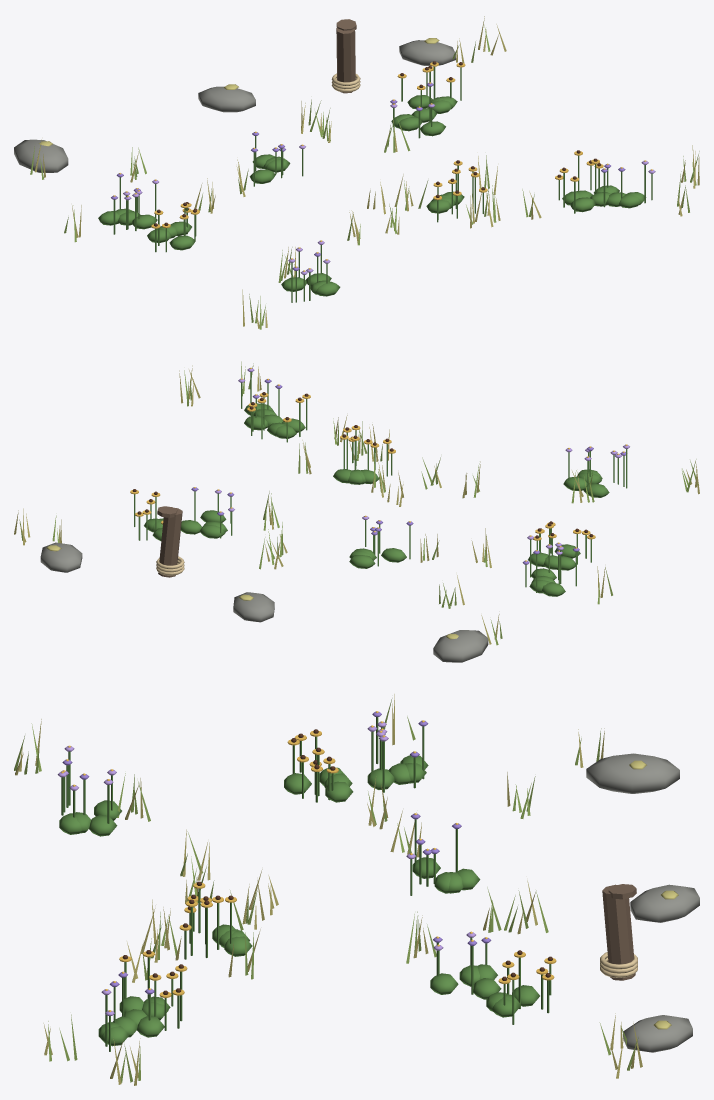
File: shore-meadow.glb
3 views of the same model, one above another, from view 1: azimuth 30°, elevation 25°; view 2: azimuth 150°, elevation 25°; view 3: azimuth 270°, elevation 25° (orthographic). The views are drawn at different scales.
Visible parts, largest first — view 1: ShoreMeadow_stem, ShoreMeadow_rock2, ShoreMeadow_grass2, ShoreMeadow_grass1, ShoreMeadow_old_wood, ShoreMeadow_rud; view 2: ShoreMeadow_stem, ShoreMeadow_rock2, ShoreMeadow_grass2, ShoreMeadow_grass1, ShoreMeadow_old_wood, ShoreMeadow_rud; view 3: ShoreMeadow_stem, ShoreMeadow_rock2, ShoreMeadow_grass2, ShoreMeadow_grass1, ShoreMeadow_old_wood, ShoreMeadow_rud, ShoreMeadow_rud_c, ShoreMeadow_aster, ShoreMeadow_aster2, ShoreMeadow_rope.
Part boxes in pixels (box(x1,y1,x2,y2)): ShoreMeadow_stem: box(98, 66, 652, 302); ShoreMeadow_rock2: box(14, 40, 455, 172); ShoreMeadow_grass2: box(34, 16, 699, 328); ShoreMeadow_grass1: box(30, 25, 699, 329); ShoreMeadow_old_wood: box(336, 19, 356, 93); ShoreMeadow_rud: box(113, 62, 652, 271); ShoreMeadow_stem: box(134, 372, 627, 596); ShoreMeadow_rock2: box(40, 542, 488, 662); ShoreMeadow_grass2: box(14, 365, 699, 644); ShoreMeadow_grass1: box(19, 361, 698, 645); ShoreMeadow_old_wood: box(157, 506, 182, 577); ShoreMeadow_rud: box(130, 367, 627, 561); ShoreMeadow_stem: box(59, 717, 551, 1051); ShoreMeadow_rock2: box(586, 753, 699, 1052); ShoreMeadow_grass2: box(15, 694, 642, 1085); ShoreMeadow_grass1: box(14, 698, 638, 1082); ShoreMeadow_old_wood: box(602, 884, 636, 980); ShoreMeadow_rud: box(61, 711, 556, 1011); ShoreMeadow_rud_c: box(122, 729, 552, 994); ShoreMeadow_aster: box(62, 711, 491, 994); ShoreMeadow_aster2: box(57, 721, 475, 1015); ShoreMeadow_rope: box(600, 952, 637, 977).
Size of the model in its own units: 8.84 by 1.16 by 7.36.
